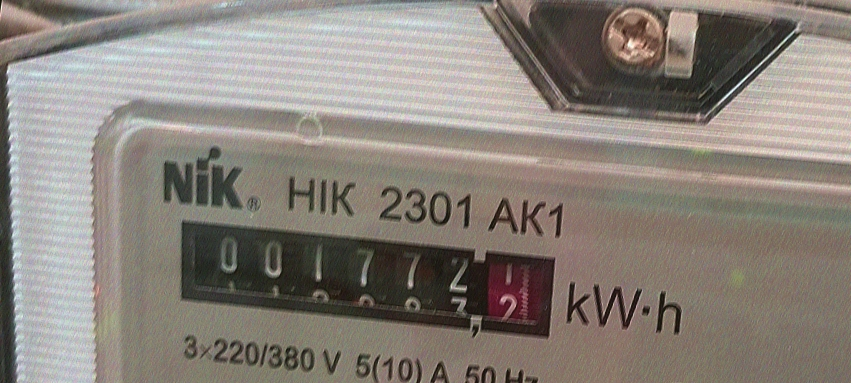0: (213, 230, 245, 274), (261, 236, 288, 278)
1: (309, 241, 330, 281), (501, 260, 518, 287)
2: (446, 255, 474, 294), (494, 290, 521, 321)
3: (448, 293, 472, 317)
7: (351, 244, 379, 288), (398, 249, 424, 290)
screen: (161, 199, 578, 357)
